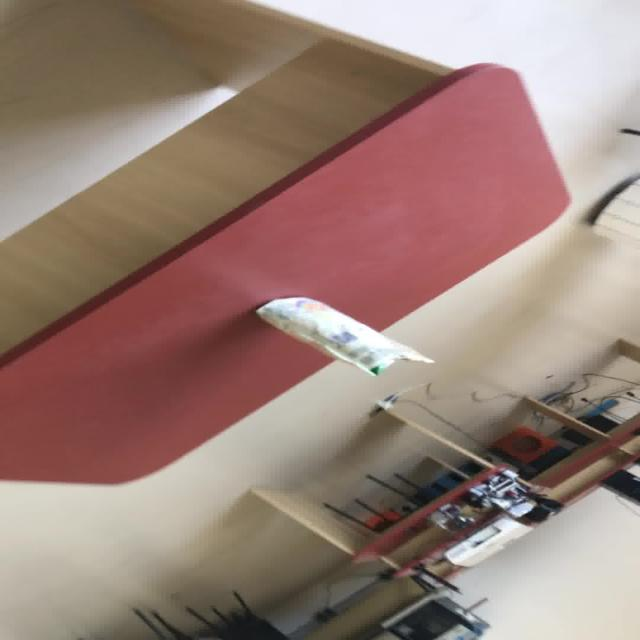corn flakes: (252, 295, 434, 376)
